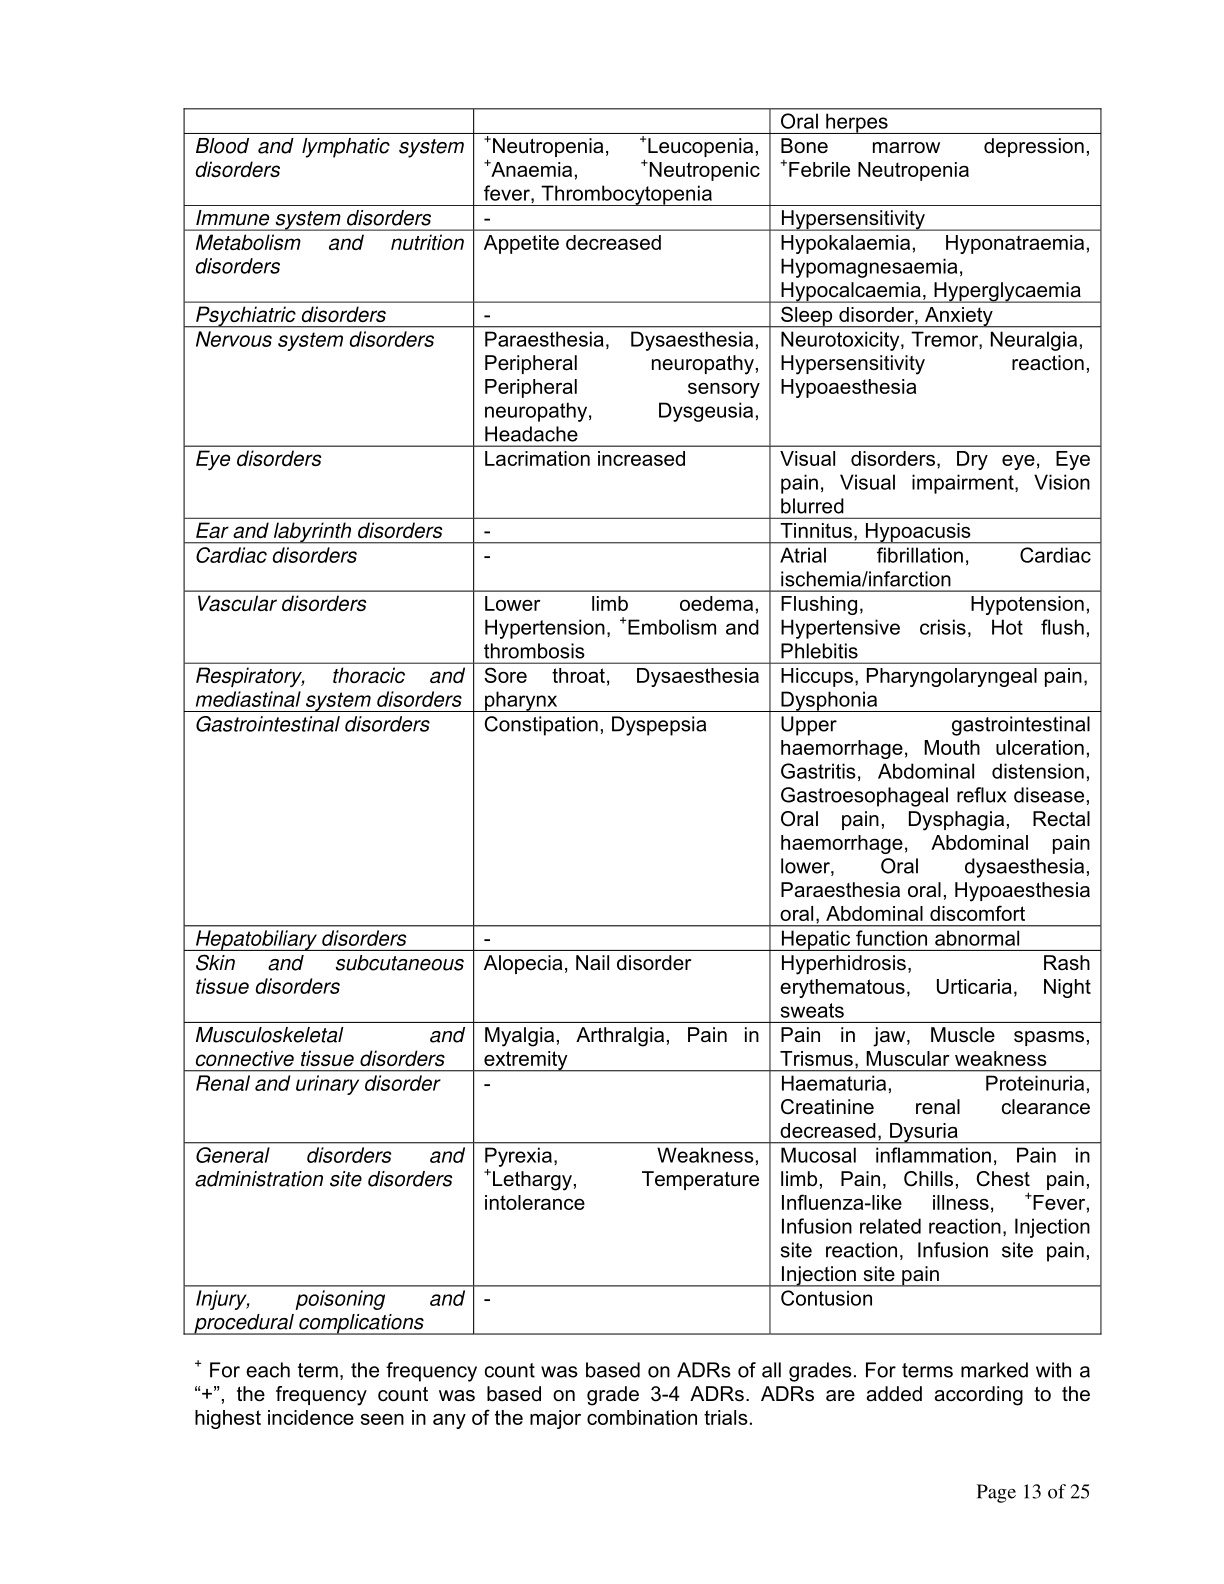full_lined: (183, 107, 1102, 1335)
